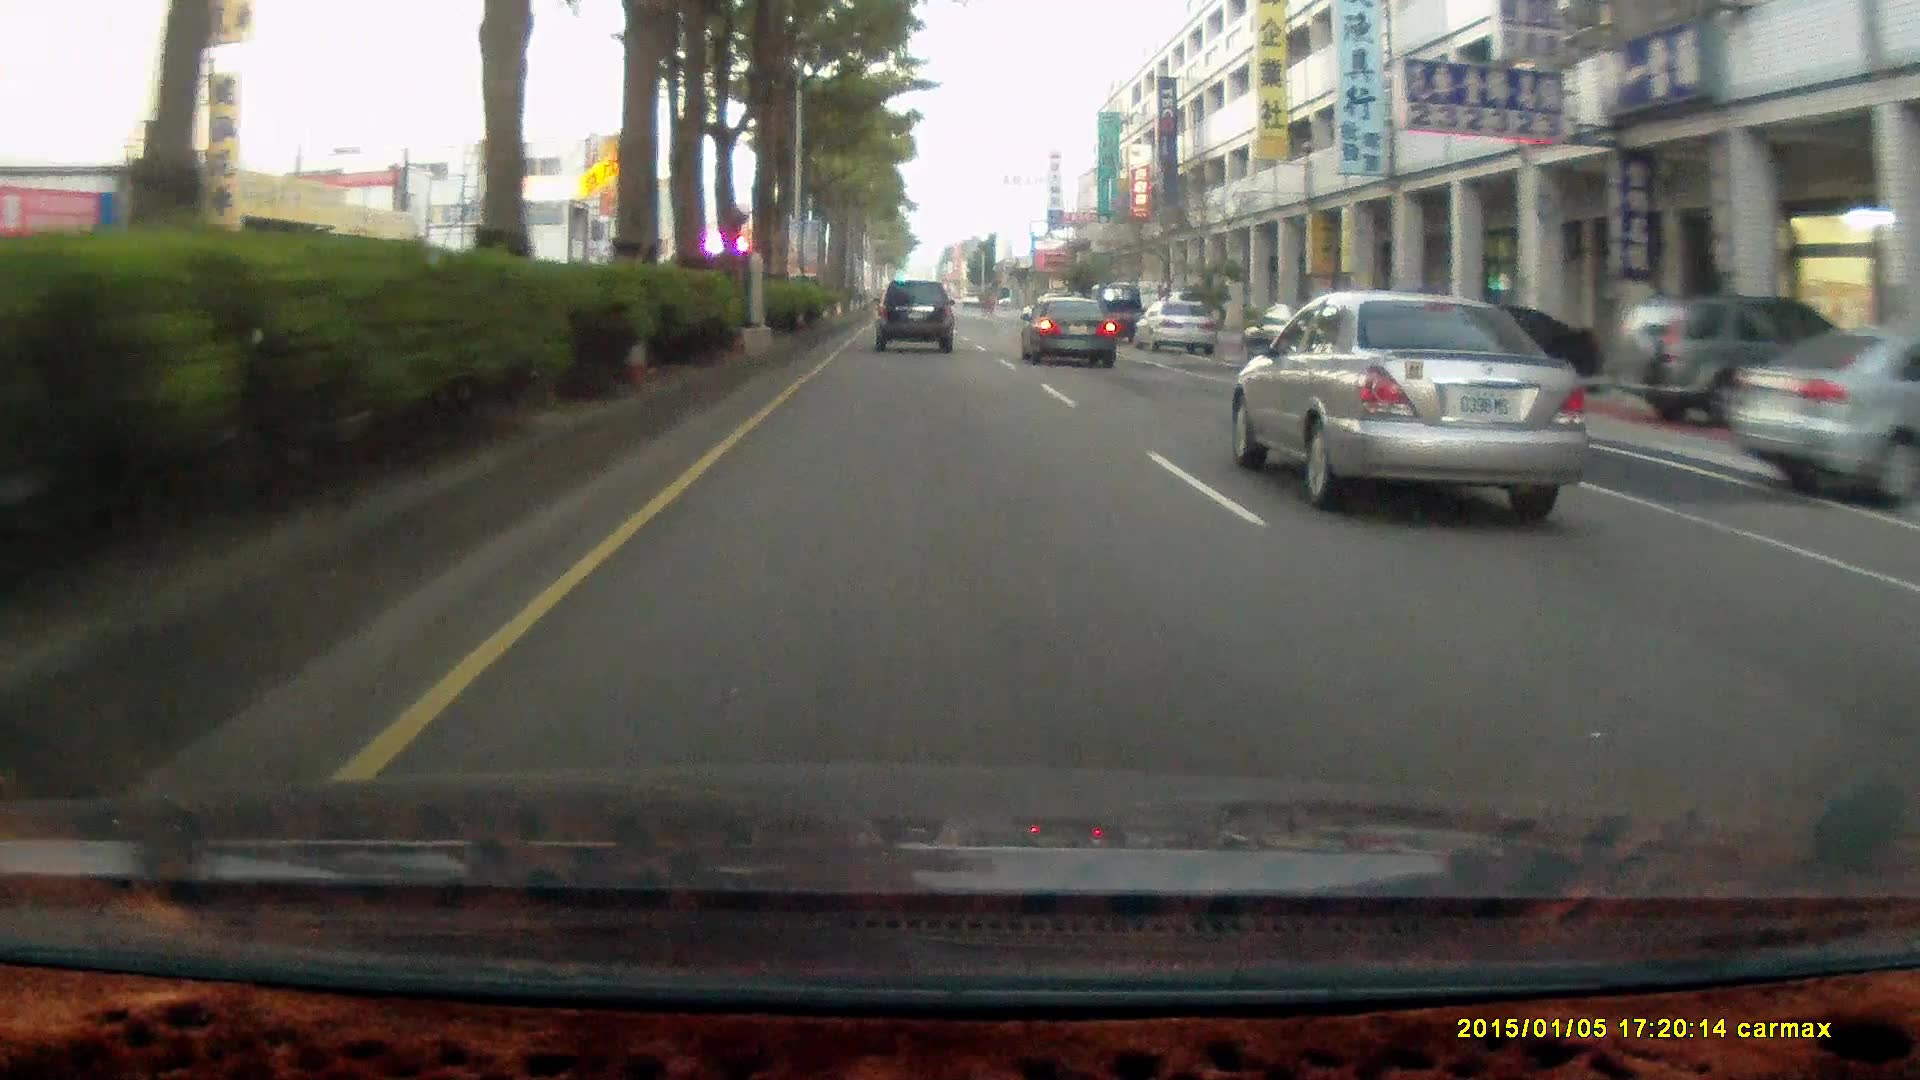vehicle: (1226, 289, 1601, 517), (1731, 328, 1920, 516), (1727, 328, 1920, 510), (1615, 297, 1862, 434), (1615, 297, 1851, 436), (1393, 302, 1600, 392), (1238, 297, 1379, 377), (1021, 298, 1122, 372), (1018, 294, 1116, 367), (874, 280, 957, 356), (872, 280, 955, 349), (1130, 302, 1218, 357), (1139, 305, 1222, 357), (1084, 284, 1145, 343)
